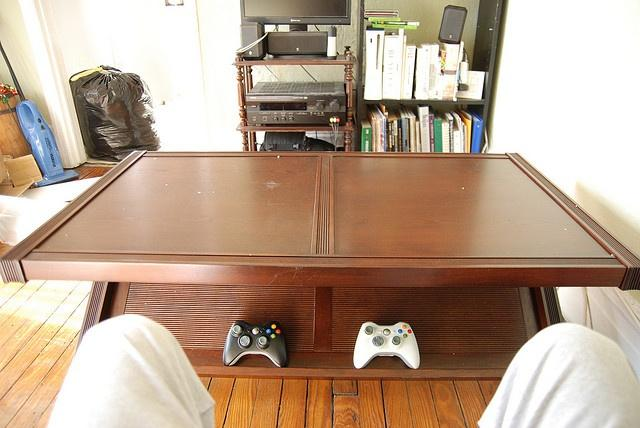Meja: (0, 151, 639, 291)
Rak: (356, 0, 501, 150)
